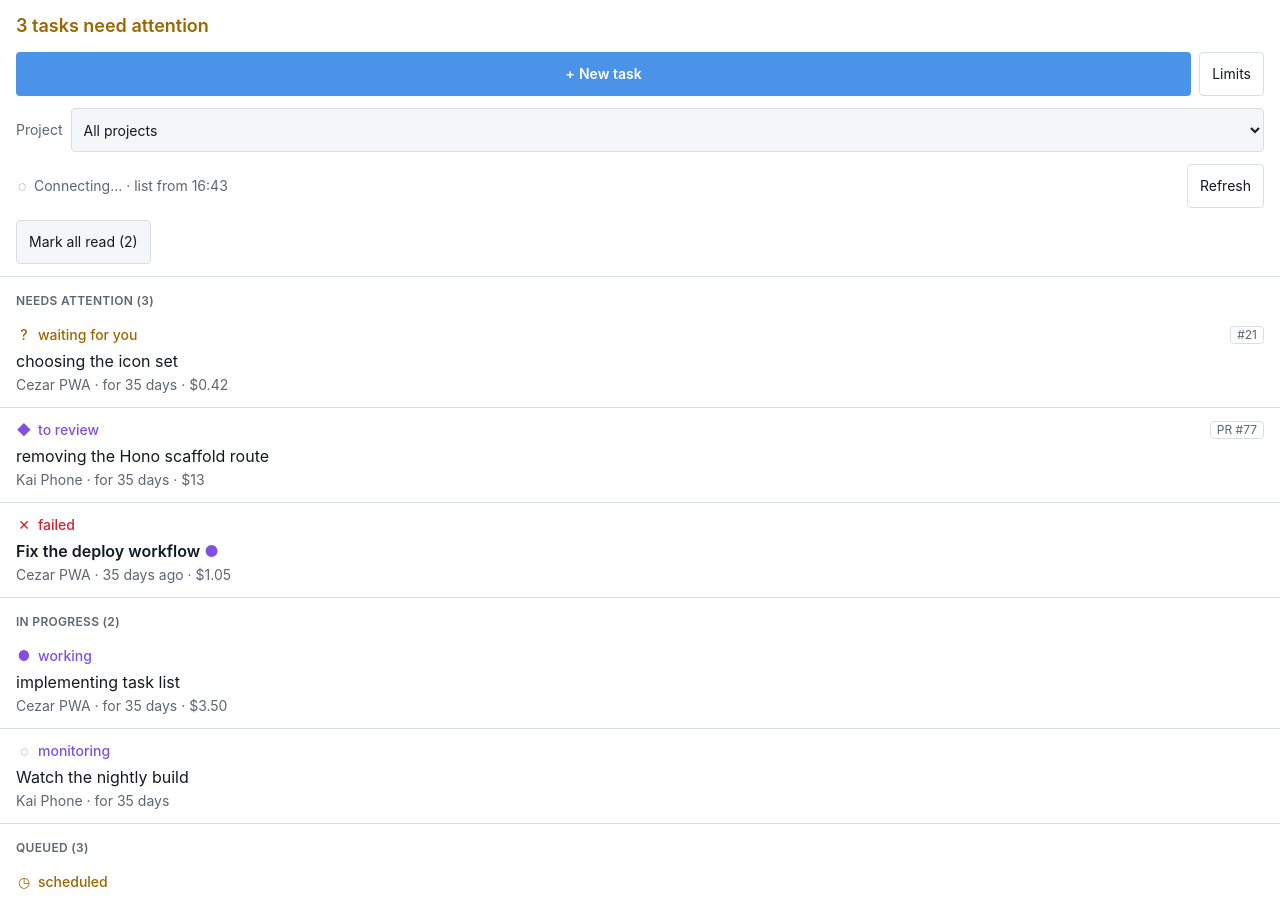
Test: mark all read (#67) › asks once, naming the projects in view, and sends nothing until confirmed
Click the button "Mark all read (2)" at (83, 242), box [16,220,151,264]
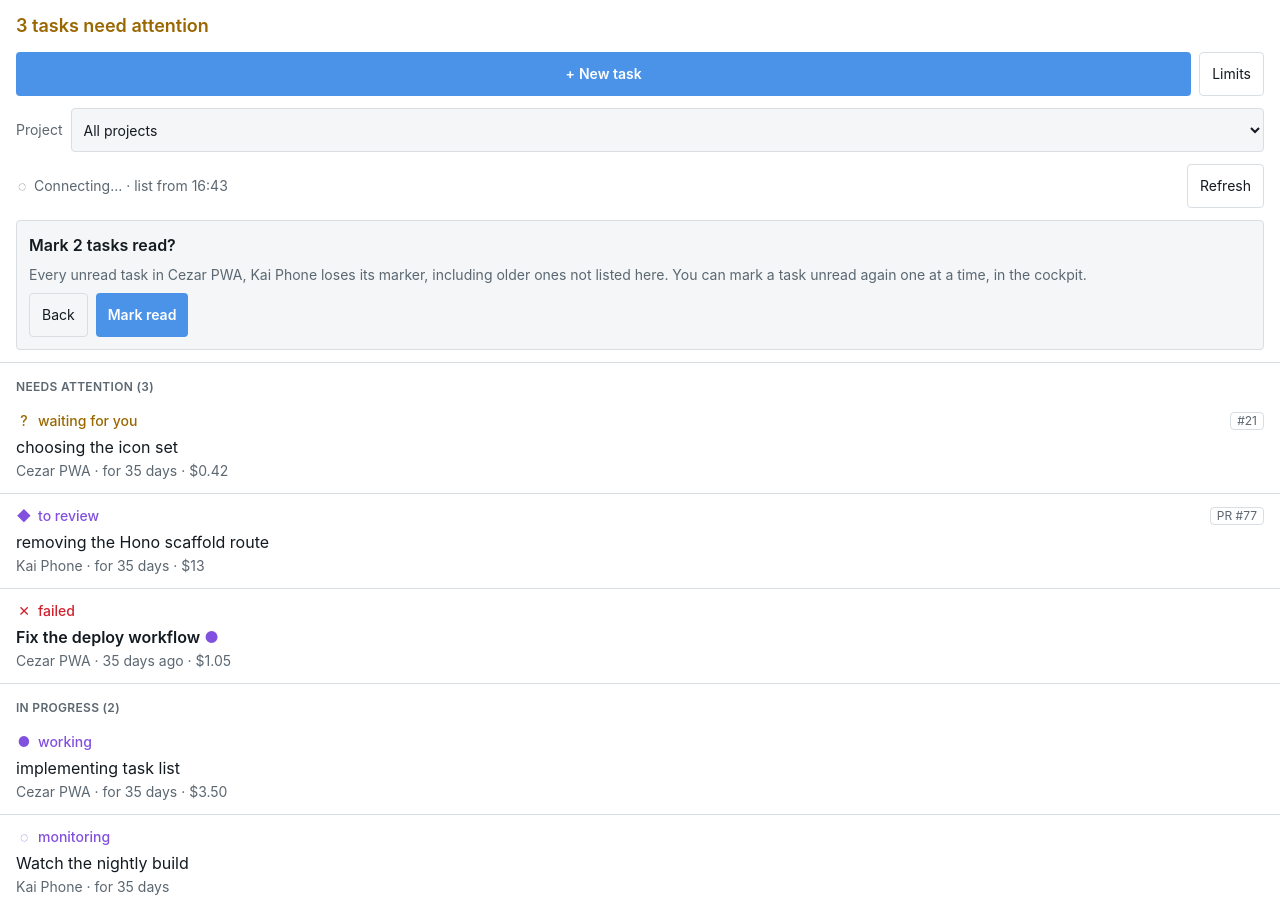
Click the button "Back" at (58, 315), box [29,293,88,337]
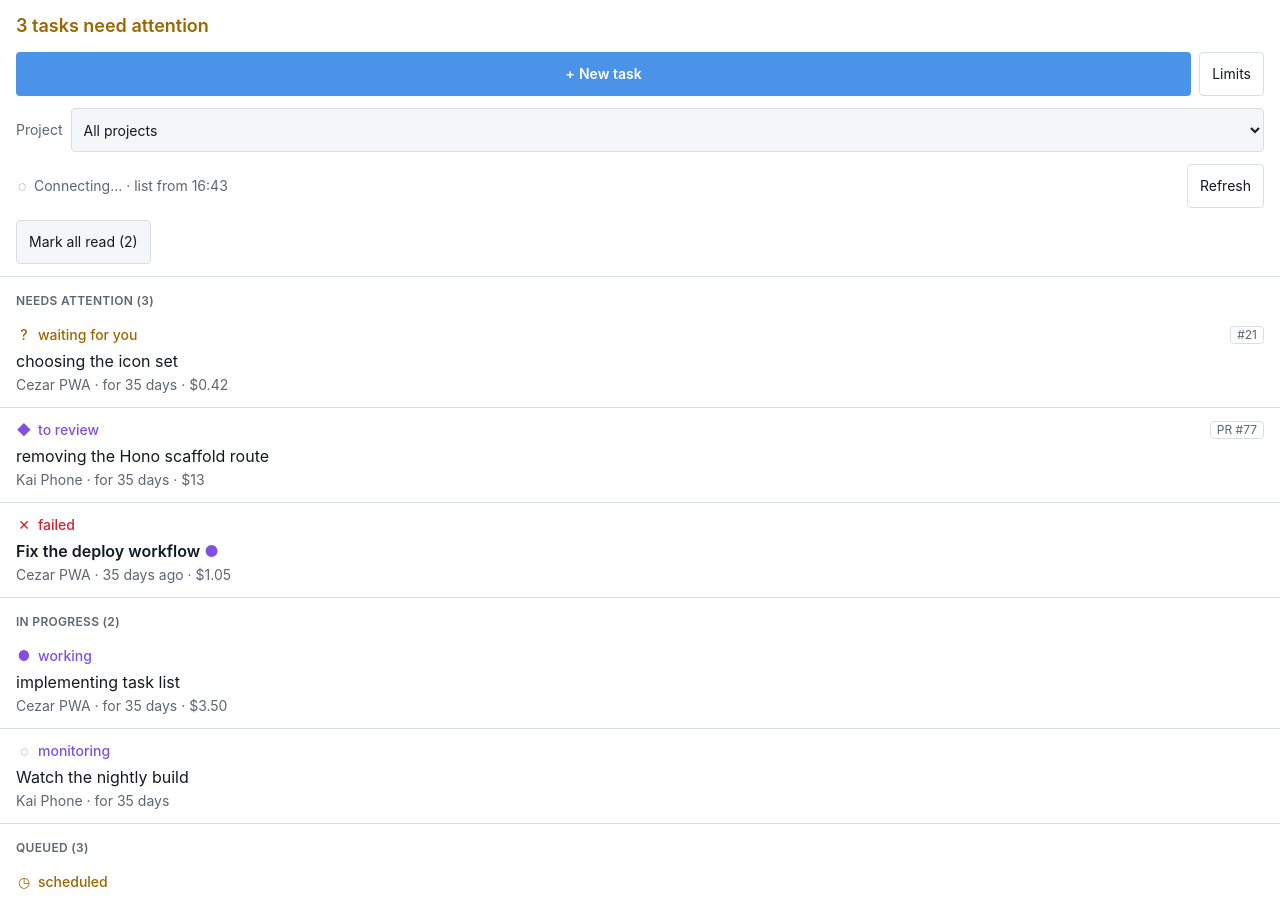
Now the dialog is gone
